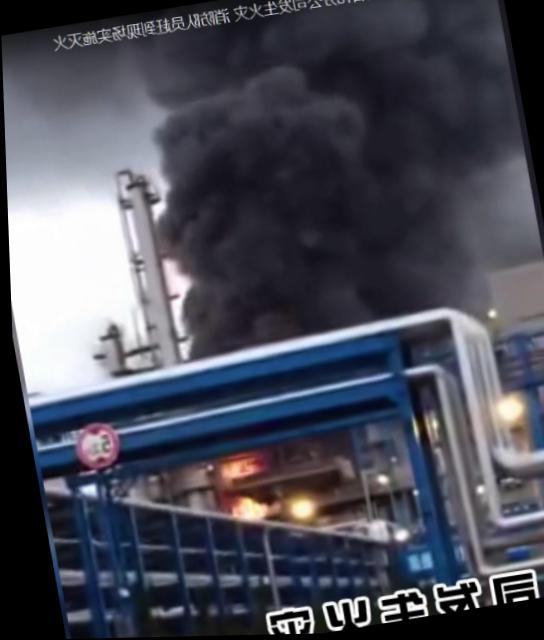fire: (215, 450, 266, 482), (226, 494, 270, 522)
